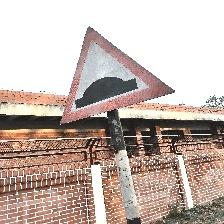Speed-breaker: (59, 25, 176, 124)
